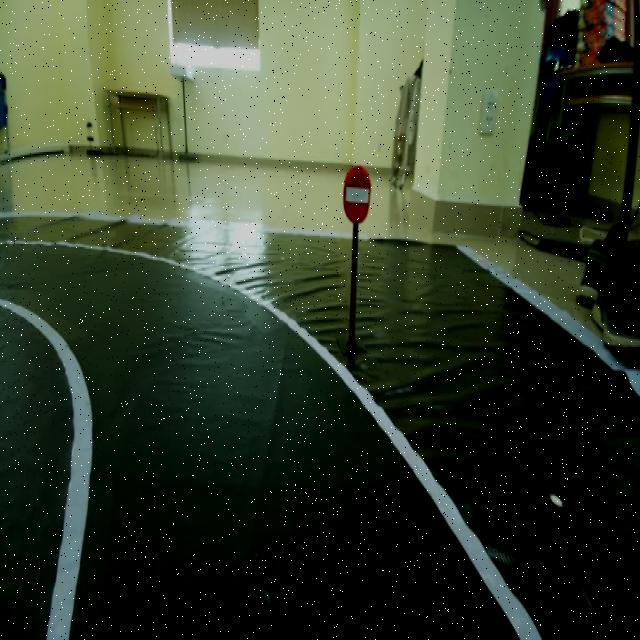no_entry: (340, 162, 374, 228)
